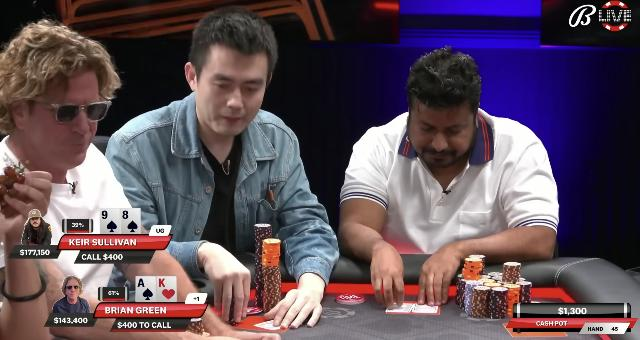8S: (122, 210, 138, 234)
9S: (101, 208, 119, 234)
AS: (138, 278, 154, 302)
KH: (158, 278, 176, 302)
